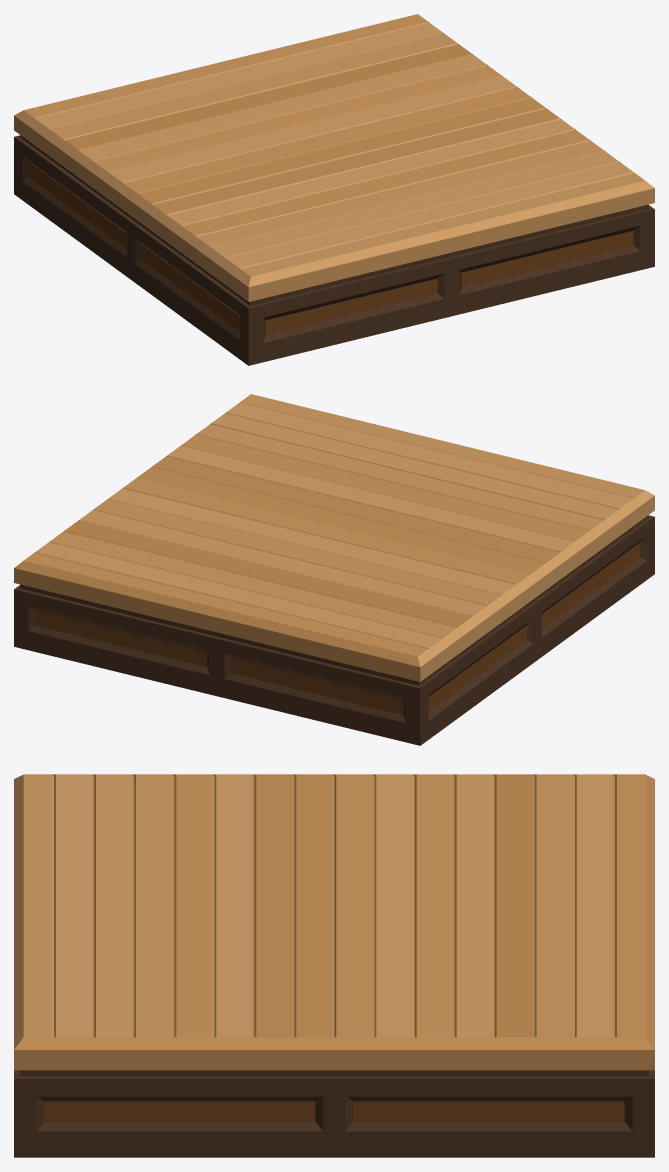
Rendered from stage-riser-deck-6f7c04.glb.
3 renders of one model, top to bottom at view 1: azimuth 30°, elevation 25°; view 2: azimuth 150°, elevation 25°; view 3: azimuth 270°, elevation 25°, orthographic. The views are drawn at different scales.
Visible parts, largest first — view 1: stage-riser-deck-body; view 2: stage-riser-deck-body; view 3: stage-riser-deck-body.
Boxes of the visible parts, box(x1,y1,x2,y2) form: stage-riser-deck-body: box(14, 14, 654, 365); stage-riser-deck-body: box(14, 394, 654, 745); stage-riser-deck-body: box(14, 774, 654, 1157).
Bounding box in the file's own units: 2 × 0.4 × 2.
